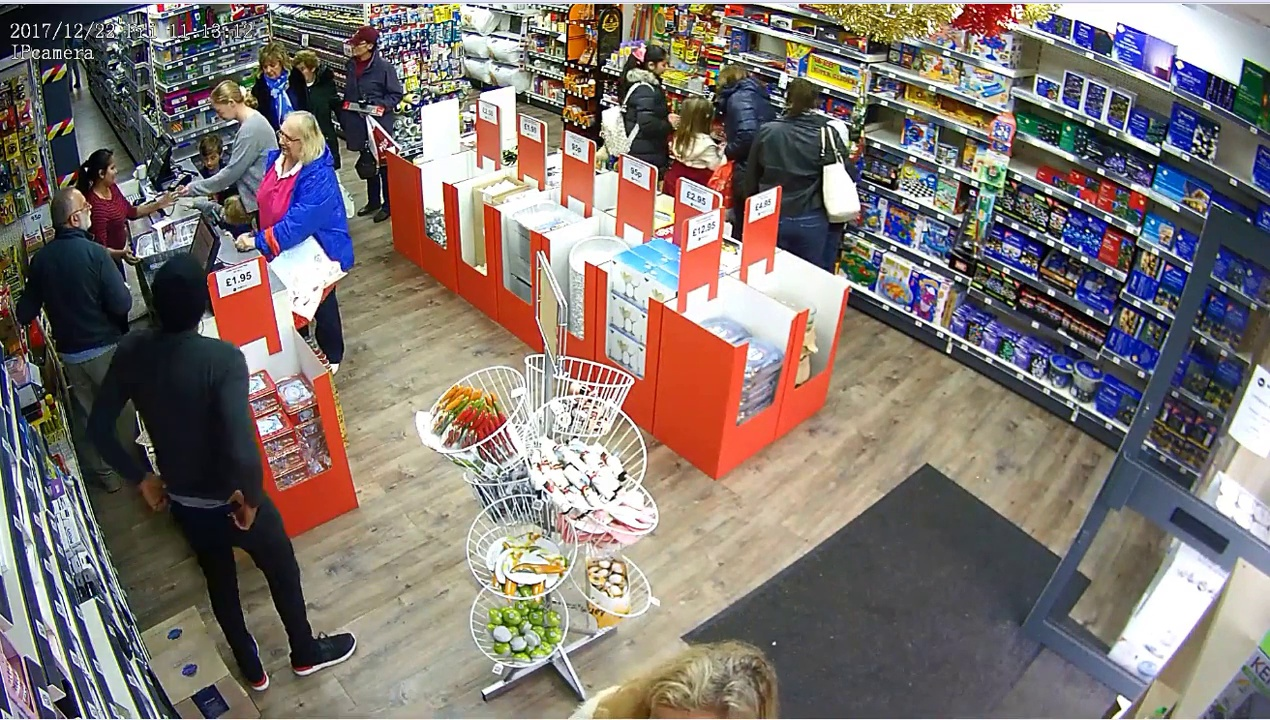face: (272, 119, 301, 165), (69, 194, 101, 227), (257, 51, 281, 87), (350, 34, 371, 59), (200, 152, 217, 170)
